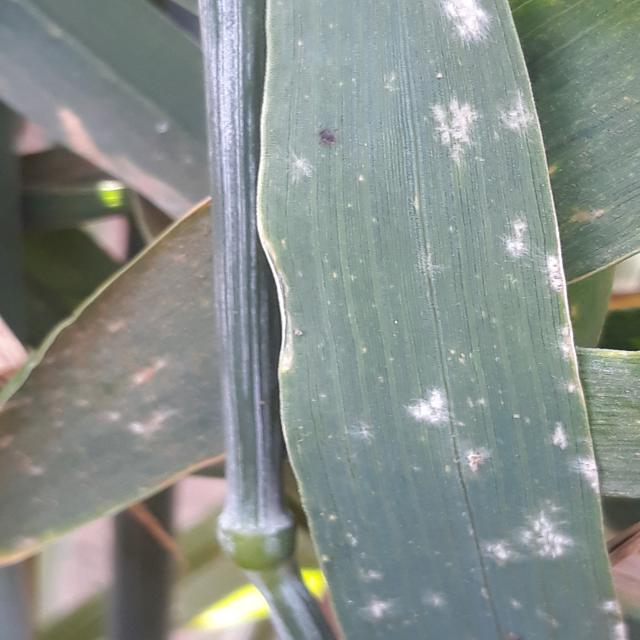powder_mildew: (213, 1, 640, 637), (0, 218, 227, 561), (23, 99, 217, 220)
